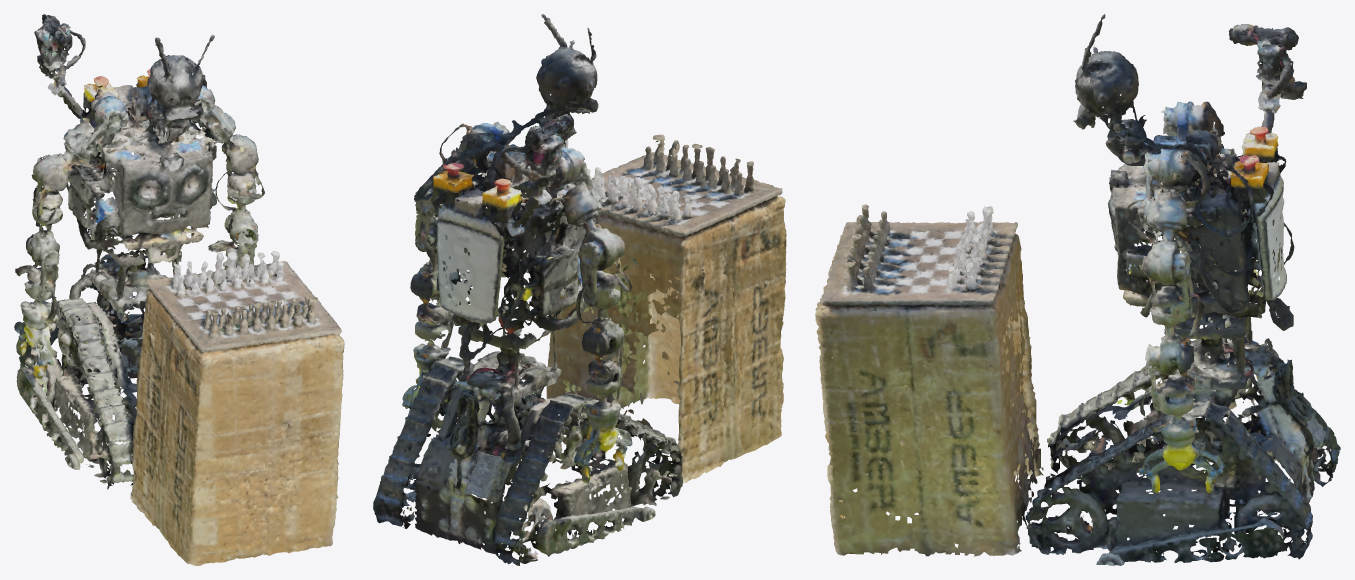
File: rob-chess-scene.glb
3 views of the same model, side by side, from view 1: azimuth 30°, elevation 25°; view 2: azimuth 150°, elevation 25°; view 3: azimuth 270°, elevation 25° (orthographic). The views are drawn at different scales.
Visible parts, largest first — view 1: ROB chess scene; view 2: ROB chess scene; view 3: ROB chess scene.
Boxes of the visible parts, left/top/right/bottom form: ROB chess scene: left=14, top=14, right=344, bottom=565; ROB chess scene: left=373, top=14, right=786, bottom=565; ROB chess scene: left=815, top=14, right=1340, bottom=565.
Bounding box in the file's own units: 0.6058 × 1.21 × 1.14.
